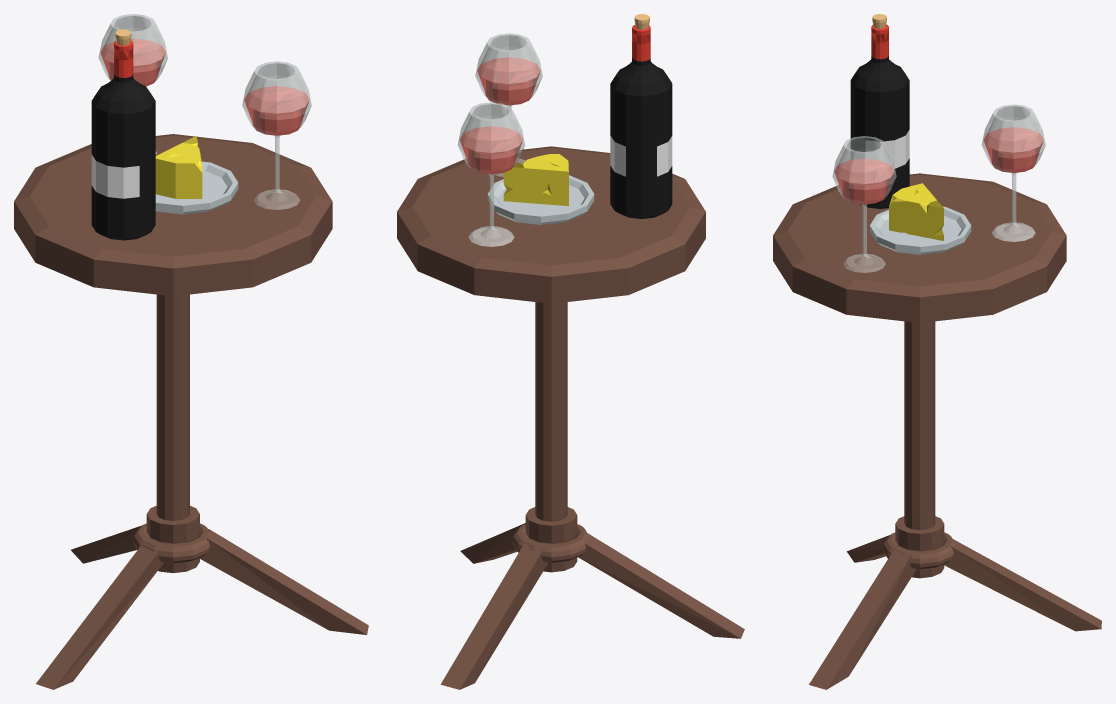
The model's file is WineTable.glb.
The picture shows the model from 3 angles, left to right: view 1: azimuth 30°, elevation 25°; view 2: azimuth 150°, elevation 25°; view 3: azimuth 270°, elevation 25°; orthographic projection. The views are drawn at different scales.
Parts seen in each view (by area): view 1: Node; view 2: Node; view 3: Node.
Boxes of the visible parts, x1,y1,x2,y2 form: Node: (14, 14, 368, 689); Node: (397, 14, 744, 689); Node: (773, 14, 1101, 689).
Size of the model in its own units: 1.29 by 2.47 by 1.28.
